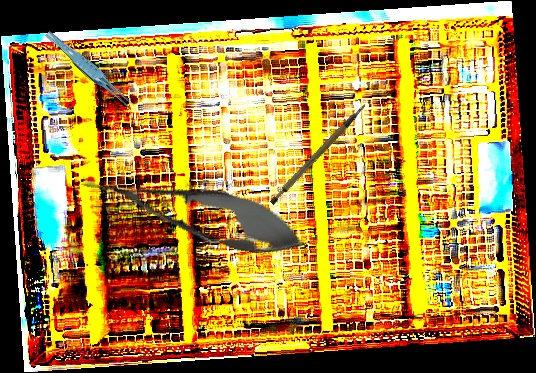Micro Scissor: (74, 154, 314, 270)
Scalpel Handle: (258, 103, 380, 207)
Tissue Forceps: (44, 24, 137, 118)
